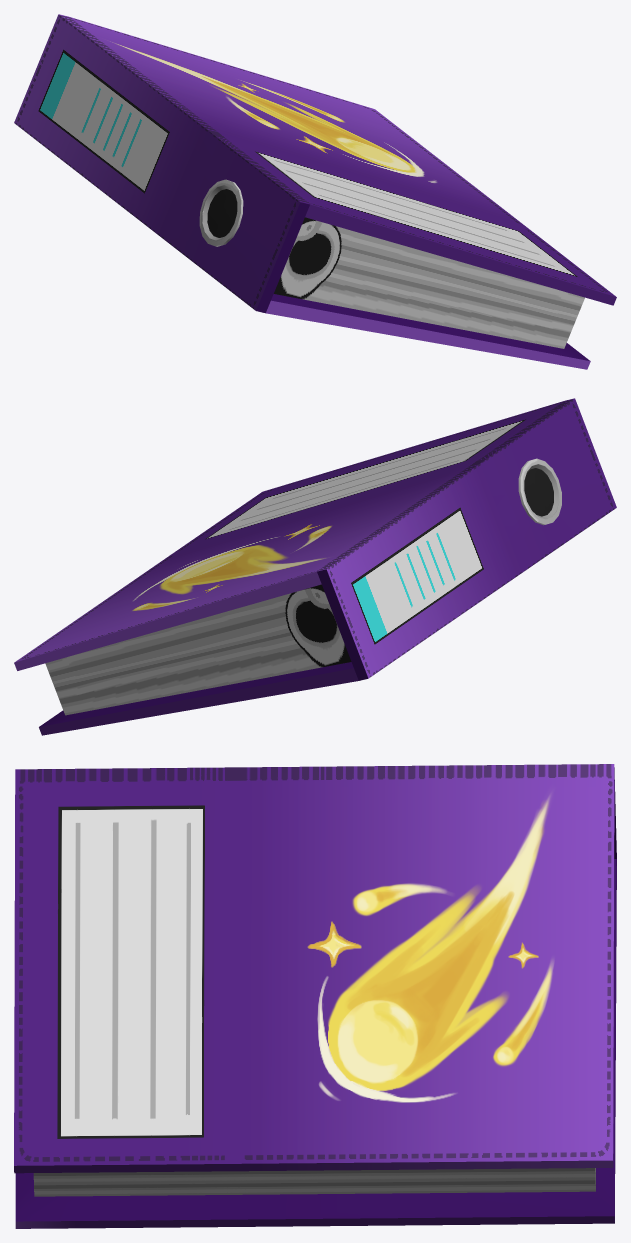
File: Binder_Comet.fbx
3 renders of one model, top to bottom at view 1: azimuth 30°, elevation 25°; view 2: azimuth 150°, elevation 25°; view 3: azimuth 270°, elevation 25°, orthographic. The views are drawn at different scales.
Visible parts, largest first — view 1: Binder_low; view 2: Binder_low; view 3: Binder_low.
Part boxes in pixels (x1,y1,x2,y2): Binder_low: [14, 14, 616, 369]; Binder_low: [14, 398, 616, 735]; Binder_low: [14, 764, 616, 1228].
Size of the model in its own units: 1158 by 743 by 1366.
Materials: 1 (1 with a texture image).
